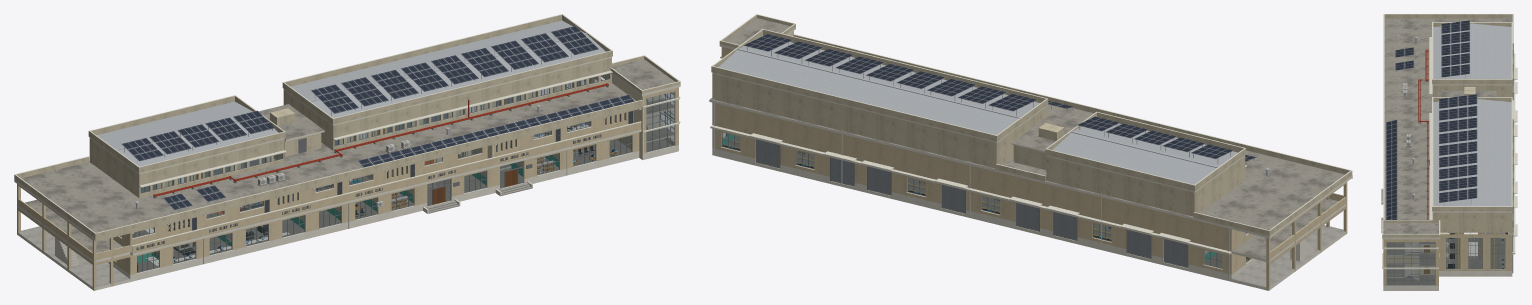
Rendered from BMU_Workshop_Interior_Scene.glb.
The picture shows the model from 3 angles, left to right: view 1: azimuth 30°, elevation 25°; view 2: azimuth 150°, elevation 25°; view 3: azimuth 270°, elevation 25°; orthographic projection. The views are drawn at different scales.
Visible parts, largest first — view 1: Slabs_Roof, Solar_Arrays, Raised_Block_Right, Front_First_Floor, Hall_Roof, Front_Ground_Floor, Raised_Block_Left, Front_Ground_Floor_Windows, Open_Frame_Bay, Stair_Tower, Floors, Front_First_Floor_Windows (+12 smaller); view 2: Back_Facade, Hall_Roof, Raised_Block_Right, Slabs_Roof, Back_Facade_Windows, Raised_Block_Left, Solar_Arrays, Open_Frame_Bay, Penthouse, Stair_Tower, Floors, End_Walls; view 3: Slabs_Roof, Hall_Roof, Solar_Arrays, Stair_Tower, Raised_Block_Right, Stair_Tower_Windows, End_Walls, Raised_Block_Left, End_Walls_Windows, Floors, Roof_Pipes, Hall_Machines (+4 smaller).
Part boxes in pixels (<box>): Slabs_Roof: <box>14,83,644,255</box>; Solar_Arrays: <box>121,25,634,210</box>; Raised_Block_Right: <box>282,14,612,150</box>; Front_First_Floor: <box>124,111,641,253</box>; Hall_Roof: <box>97,20,605,166</box>; Front_Ground_Floor: <box>129,132,639,281</box>; Raised_Block_Left: <box>88,95,286,198</box>; Front_Ground_Floor_Windows: <box>137,135,633,273</box>; Open_Frame_Bay: <box>17,184,130,290</box>; Stair_Tower: <box>610,55,680,159</box>; Floors: <box>132,115,631,271</box>; Front_First_Floor_Windows: <box>132,111,633,250</box>; Back_Facade: <box>710,98,1232,281</box>; Hall_Roof: <box>719,35,1237,184</box>; Raised_Block_Right: <box>711,29,1048,168</box>; Slabs_Roof: <box>709,34,1352,238</box>; Back_Facade_Windows: <box>721,132,1222,269</box>; Raised_Block_Left: <box>1045,111,1247,216</box>; Solar_Arrays: <box>743,34,1256,161</box>; Open_Frame_Bay: <box>1231,182,1347,290</box>; Penthouse: <box>1011,116,1079,169</box>; Stair_Tower: <box>719,14,795,58</box>; Floors: <box>724,136,1247,267</box>; End_Walls: <box>712,103,1257,281</box>; Slabs_Roof: <box>1383,14,1513,234</box>; Hall_Roof: <box>1433,23,1511,206</box>; Solar_Arrays: <box>1386,20,1477,219</box>; Stair_Tower: <box>1382,220,1440,290</box>; Raised_Block_Right: <box>1429,97,1512,232</box>; Stair_Tower_Windows: <box>1386,242,1439,285</box>; End_Walls: <box>1439,234,1512,276</box>; Raised_Block_Left: <box>1429,22,1512,96</box>; End_Walls_Windows: <box>1445,238,1505,269</box>; Floors: <box>1447,232,1505,268</box>; Roof_Pipes: <box>1418,49,1429,219</box>; Hall_Machines: <box>1440,232,1507,268</box>.
Size of the model in its own units: 193 by 29.59 by 48.6.
35 materials, 33 textured.
